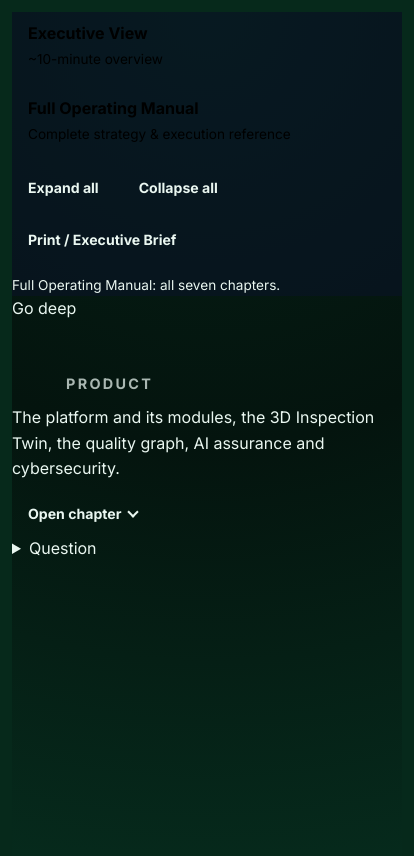
Test: ViewControls and Runtime › opens and closes every chapter at once
Click the button "Expand all" at x=63, y=189, box [12,167,115,211]
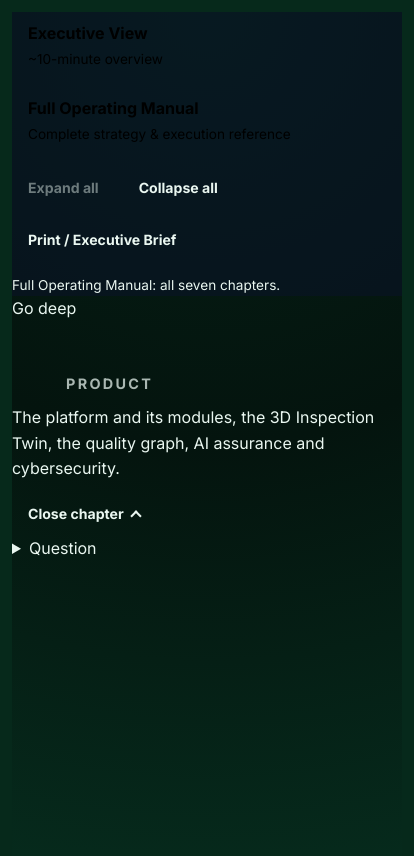
Now the button "Close chapter" is expanded, box [12,492,158,536]
Now the button "Expand all" is disabled, box [12,167,115,211]
Click the button "Collapse all" at x=178, y=189, box [123,167,234,211]
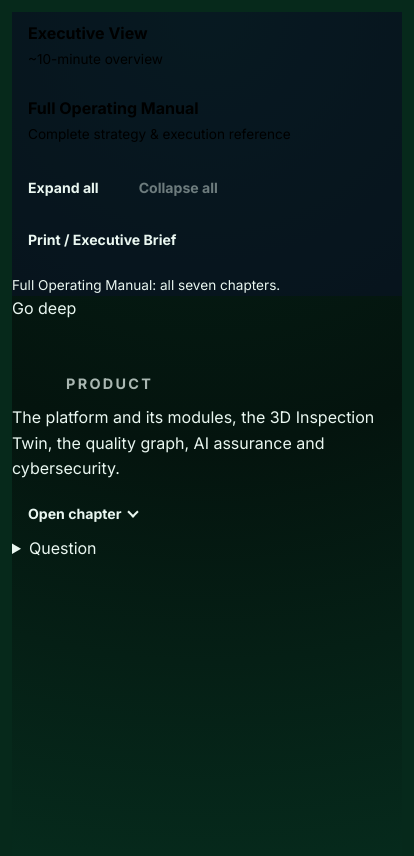
Now the button "Open chapter" is collapsed, box [12,492,156,536]
